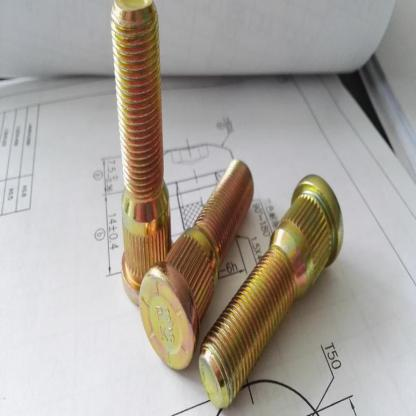FOD: (198, 170, 346, 411), (137, 156, 256, 374), (110, 0, 177, 305)
